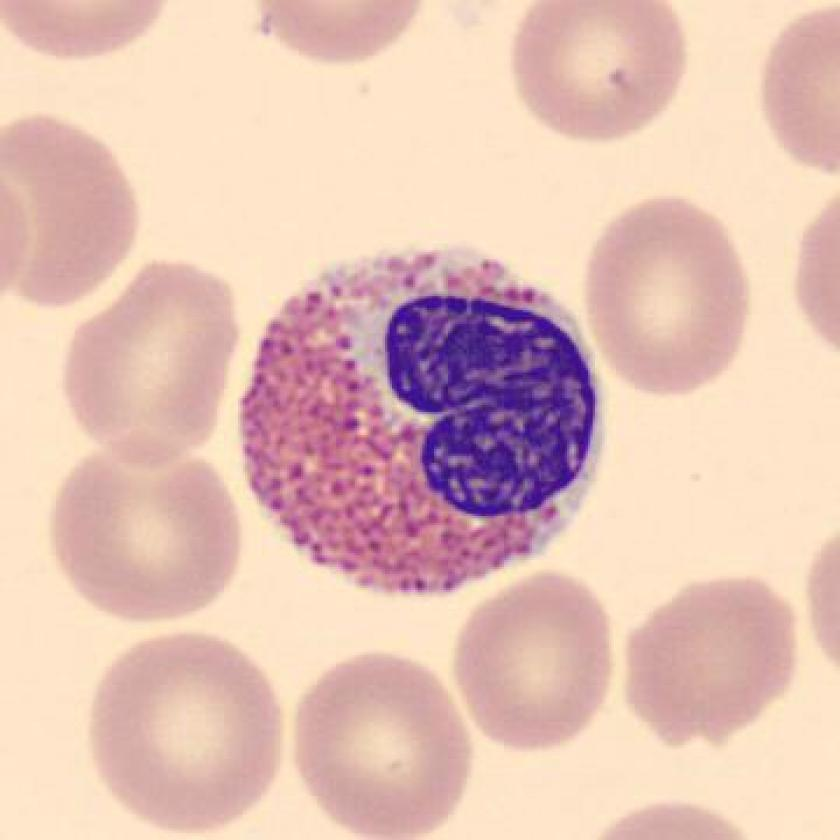eosinophil: (232, 233, 624, 617)
